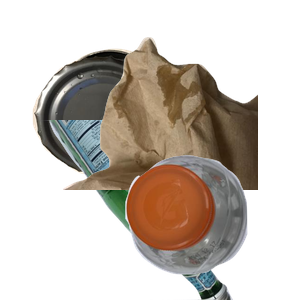glass: (37, 120, 262, 300)
metal: (30, 46, 205, 215)
plastic: (123, 152, 300, 300)
trash: (60, 35, 300, 215)
